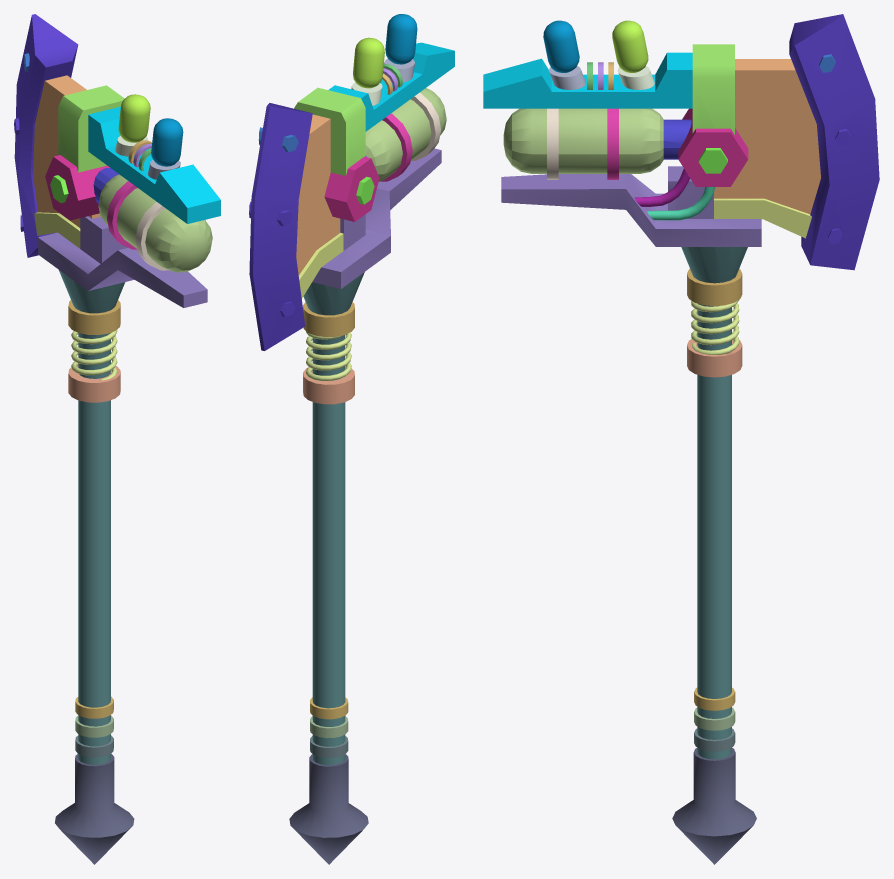
3 renders of one model, left to right at view 1: azimuth 30°, elevation 25°; view 2: azimuth 150°, elevation 25°; view 3: azimuth 270°, elevation 25°, orthographic. The views are drawn at different scales.
Parts seen in each view (by area): view 1: Object_16, Object_12, split_parent_0, Object_10, split_parent_9, Object_18, Object_8, Object_6, Object_22, split_parent_25, Object_32, Object_28 (+8 smaller); view 2: Object_16, split_parent_0, Object_12, Object_18, Object_6, Object_8, split_parent_9, Object_10, Object_22, split_parent_25, Object_64, Object_28 (+8 smaller); view 3: split_parent_0, Object_16, Object_6, Object_12, split_parent_9, Object_10, Object_18, Object_8, Object_22, Object_20, split_parent_25, Object_28 (+7 smaller).
Part boxes in pixels (x1,y1,x2,y2): Object_16: (59, 270, 125, 764); Object_12: (38, 216, 207, 307); split_parent_0: (14, 14, 78, 257); Object_10: (88, 106, 220, 223); split_parent_9: (98, 174, 212, 272); Object_18: (55, 753, 134, 864); Object_8: (58, 85, 124, 172); Object_6: (33, 75, 100, 227); Object_22: (45, 155, 109, 220); split_parent_25: (71, 330, 117, 380); Object_32: (68, 365, 120, 402); Object_28: (151, 118, 183, 166); Object_16: (303, 272, 364, 765); split_parent_0: (249, 103, 312, 350); Object_12: (312, 148, 441, 288); Object_18: (289, 754, 368, 864); Object_6: (296, 114, 340, 274); Object_8: (294, 87, 365, 175); split_parent_9: (365, 88, 446, 181); Object_10: (328, 42, 454, 131); Object_22: (324, 156, 379, 221); split_parent_25: (306, 331, 351, 380); Object_64: (353, 37, 384, 88); Object_28: (385, 14, 417, 64); split_parent_0: (789, 14, 879, 270); Object_16: (681, 247, 747, 759); Object_6: (714, 59, 820, 214); Object_12: (501, 166, 761, 246); split_parent_9: (503, 108, 663, 173); Object_10: (483, 52, 692, 108); Object_18: (672, 747, 756, 864); Object_8: (692, 44, 734, 134); Object_22: (678, 108, 748, 186); Object_20: (714, 198, 811, 238); split_parent_25: (691, 300, 739, 354); Object_28: (543, 20, 579, 72).
Size of the model in its own units: 0.0988 by 1 by 0.4223.
